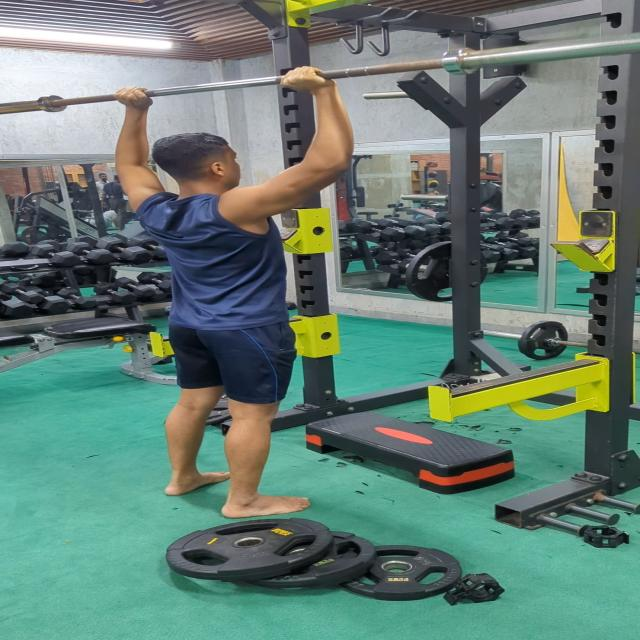Normal_OverheadPress: (98, 60, 382, 522)
